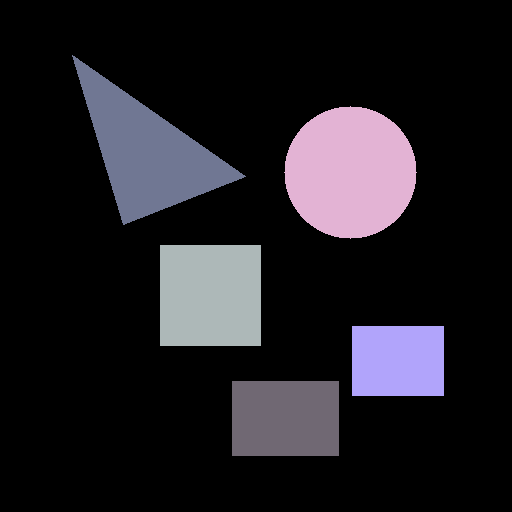circle: (284, 106, 416, 238)
rectangle: (232, 381, 338, 455), (352, 326, 443, 395)
square: (160, 245, 260, 345)
triangle: (72, 55, 245, 224)
